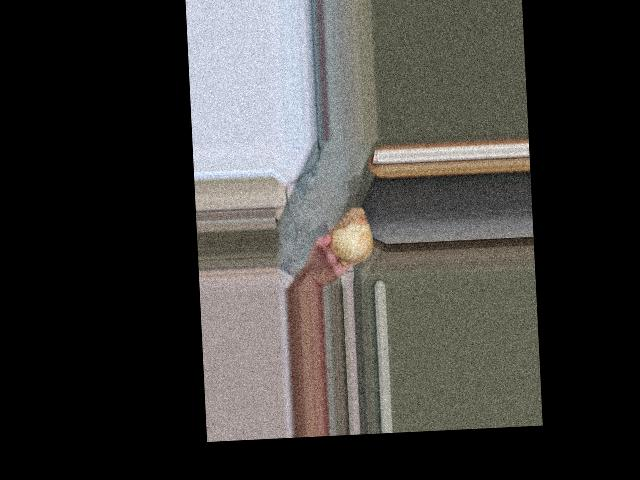onion: (326, 205, 371, 263)
